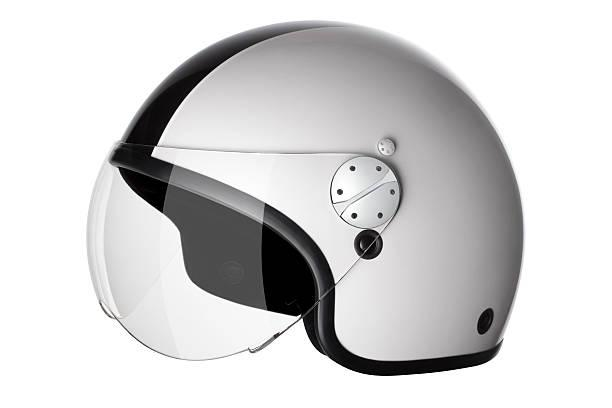helmet: (69, 7, 568, 408)
